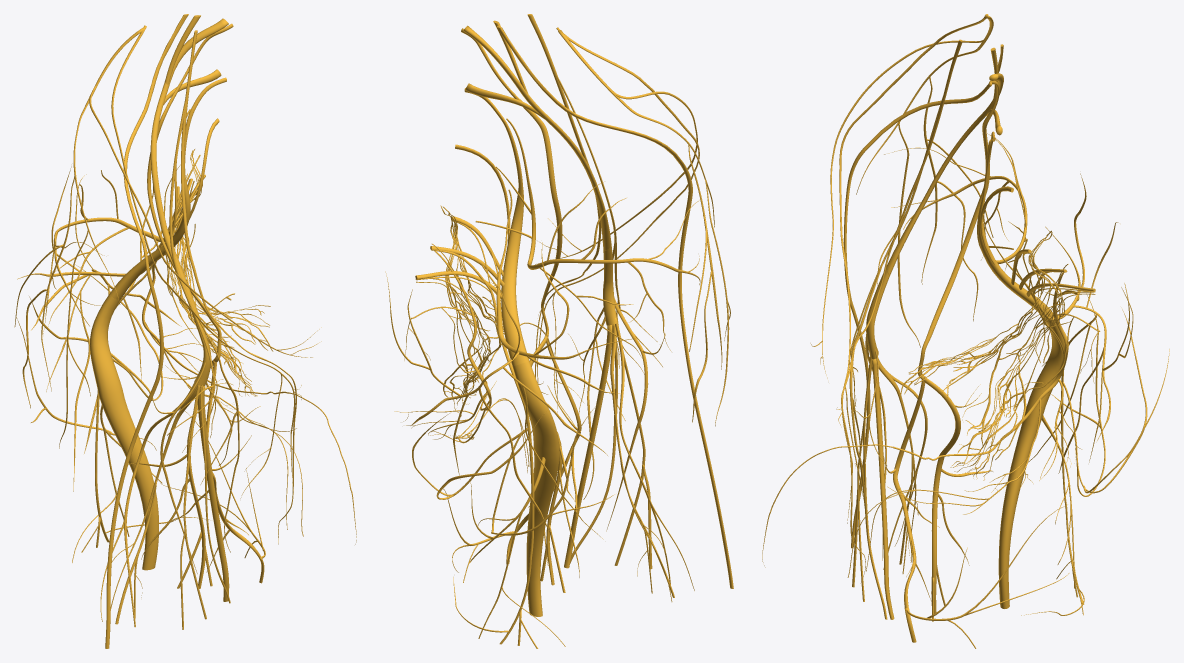
The model's file is open3d-inguinal-canal-nervous-01.glb.
The picture shows the model from 3 angles, left to right: view 1: azimuth 30°, elevation 25°; view 2: azimuth 150°, elevation 25°; view 3: azimuth 270°, elevation 25°; orthographic projection. The views are drawn at different scales.
Visible parts, largest first — view 1: O3D_172851864791bb, O3D_06945add2d12d9, O3D_150b7c3bcb05ea, O3D_9fee0844eec22b, O3D_798315ac8308fa, O3D_2f157f8ac604f3, O3D_5979eca9fe154d, O3D_a0a56ba6b4098b, O3D_4fb764eab16c73, O3D_3f452242f35f8a, O3D_72211e8d910d64, O3D_2f464687abfafc (+15 smaller); view 2: O3D_172851864791bb, O3D_2f157f8ac604f3, O3D_798315ac8308fa, O3D_06945add2d12d9, O3D_a0a56ba6b4098b, O3D_9fee0844eec22b, O3D_150b7c3bcb05ea, O3D_5979eca9fe154d, O3D_4fb764eab16c73, O3D_2deac653bf7ea6, O3D_72211e8d910d64, O3D_141bb5f056c99f (+14 smaller); view 3: O3D_9fee0844eec22b, O3D_172851864791bb, O3D_06945add2d12d9, O3D_798315ac8308fa, O3D_2f157f8ac604f3, O3D_3f452242f35f8a, O3D_4fb764eab16c73, O3D_150b7c3bcb05ea, O3D_2deac653bf7ea6, O3D_a0a56ba6b4098b, O3D_72211e8d910d64, O3D_5979eca9fe154d (+13 smaller).
Part boxes in pixels (x1,y1,x2,y2): O3D_172851864791bb: (72,294,162,570); O3D_06945add2d12d9: (100,362,260,627); O3D_150b7c3bcb05ea: (150,15,228,300); O3D_9fee0844eec22b: (167,149,273,396); O3D_798315ac8308fa: (17,164,194,491); O3D_2f157f8ac604f3: (109,77,226,299); O3D_5979eca9fe154d: (105,192,163,648); O3D_a0a56ba6b4098b: (43,109,200,333); O3D_4fb764eab16c73: (14,131,120,448); O3D_3f452242f35f8a: (122,360,215,588); O3D_72211e8d910d64: (197,386,229,601); O3D_2f464687abfafc: (167,294,239,552); O3D_172851864791bb: (469,361,565,646); O3D_2f157f8ac604f3: (415,88,529,366); O3D_798315ac8308fa: (385,189,635,539); O3D_06945add2d12d9: (568,298,694,601); O3D_a0a56ba6b4098b: (475,118,700,360); O3D_9fee0844eec22b: (416,205,504,416); O3D_150b7c3bcb05ea: (463,20,611,250); O3D_5979eca9fe154d: (661,142,733,588); O3D_4fb764eab16c73: (656,120,730,426); O3D_2deac653bf7ea6: (412,404,614,535); O3D_72211e8d910d64: (564,325,612,568); O3D_141bb5f056c99f: (461,28,562,292); O3D_9fee0844eec22b: (900,230,1095,480); O3D_172851864791bb: (998,332,1083,615); O3D_06945add2d12d9: (854,334,927,619); O3D_798315ac8308fa: (983,173,1133,473); O3D_2f157f8ac604f3: (978,131,1095,334); O3D_3f452242f35f8a: (924,377,992,621); O3D_4fb764eab16c73: (856,54,993,347); O3D_150b7c3bcb05ea: (887,47,1003,275); O3D_2deac653bf7ea6: (1051,293,1169,496); O3D_a0a56ba6b4098b: (884,133,1027,269); O3D_72211e8d910d64: (872,358,894,619); O3D_5979eca9fe154d: (843,115,901,548).
Size of the model in its own units: 0.1554 by 0.3419 by 0.2155.
